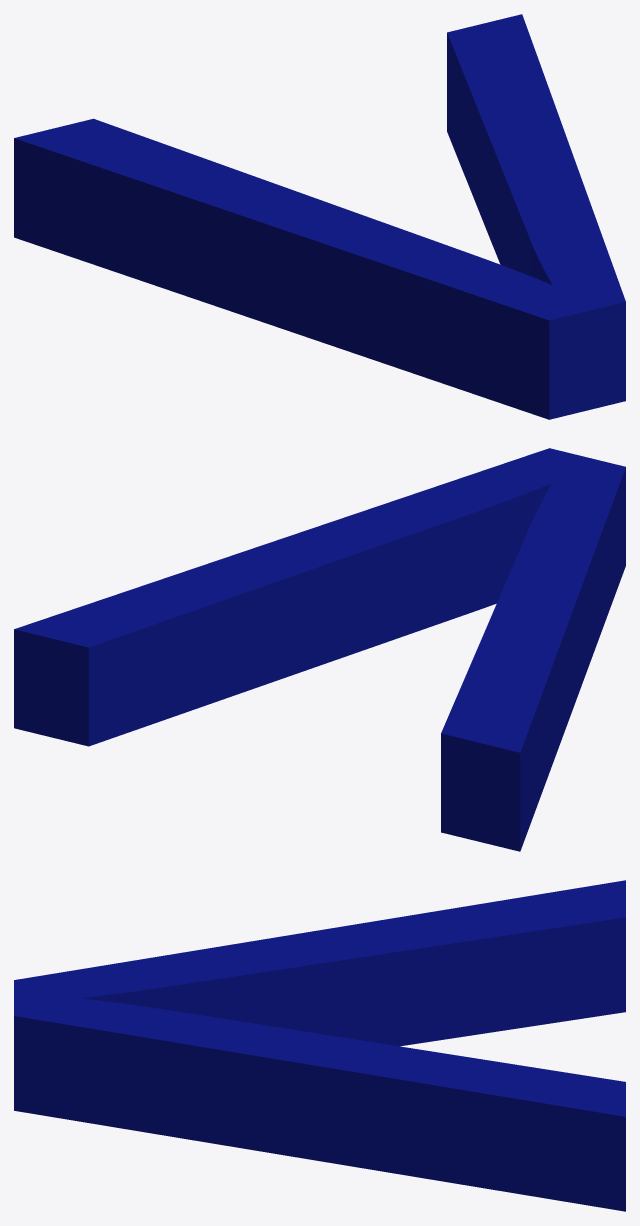
3 renders of one model, top to bottom at view 1: azimuth 30°, elevation 25°; view 2: azimuth 150°, elevation 25°; view 3: azimuth 270°, elevation 25°, orthographic. The views are drawn at different scales.
Visible parts, largest first — view 1: TextPlus022; view 2: TextPlus022; view 3: TextPlus022.
Boxes of the visible parts, <box> form: TextPlus022: <box>14,14,625,419</box>; TextPlus022: <box>14,448,625,851</box>; TextPlus022: <box>14,880,625,1211</box>.
Bounding box in the file's own units: 23.46 × 4.38 × 25.64.
